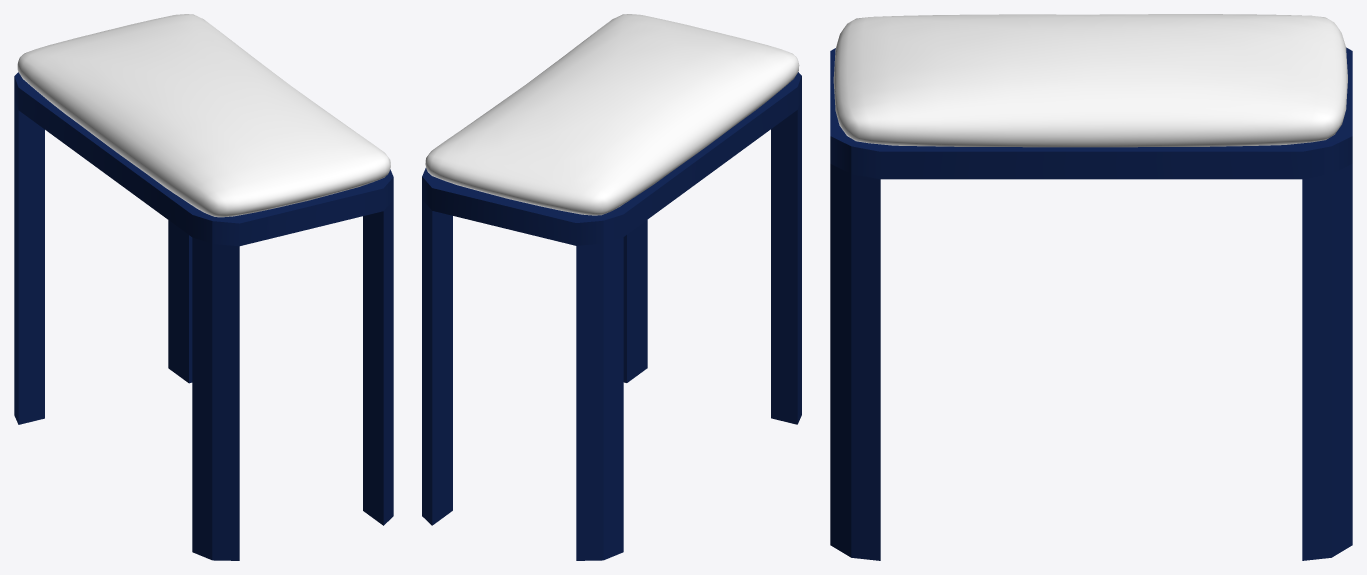
File: SillaPiano.fbx
3 views of the same model, side by side, from view 1: azimuth 30°, elevation 25°; view 2: azimuth 150°, elevation 25°; view 3: azimuth 270°, elevation 25° (orthographic). The views are drawn at different scales.
Parts seen in each view (by area): view 1: Cojín; view 2: Cojín; view 3: Cojín.
Boxes of the visible parts, left/top/right/bottom form: Cojín: left=14, top=14, right=393, bottom=560; Cojín: left=422, top=14, right=801, bottom=560; Cojín: left=830, top=14, right=1352, bottom=560.
Bounding box in the file's own units: 27.36 × 50.57 × 51.82.
